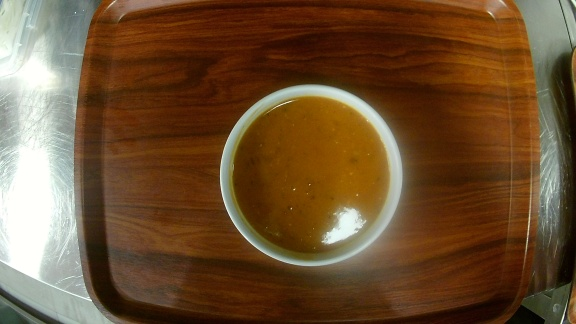ezogelin: (218, 82, 406, 270)
